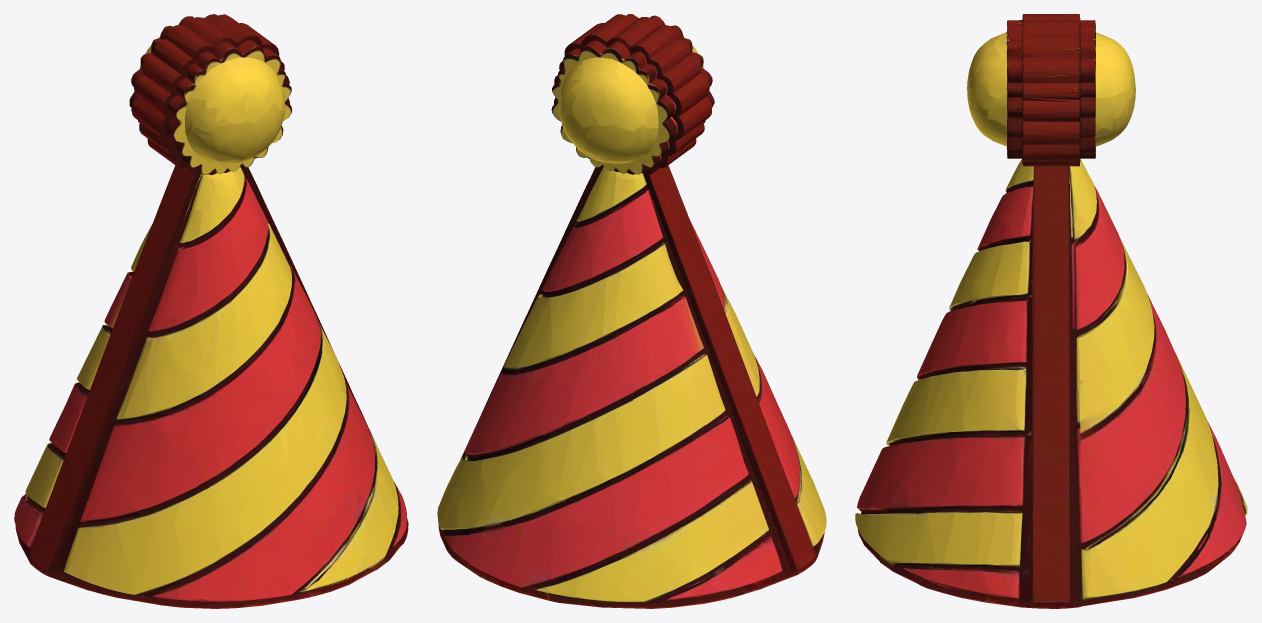
File: hat_party.glb
3 views of the same model, side by side, from view 1: azimuth 30°, elevation 25°; view 2: azimuth 150°, elevation 25°; view 3: azimuth 270°, elevation 25° (orthographic).
Bounding box in the file's own units: 1.39 × 1.9 × 1.35.
1 material, 1 textured.
